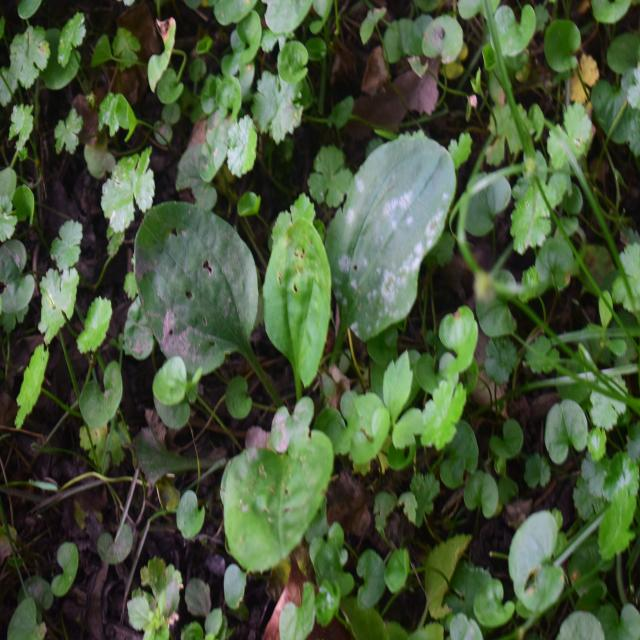plantain: (118, 96, 460, 566)
